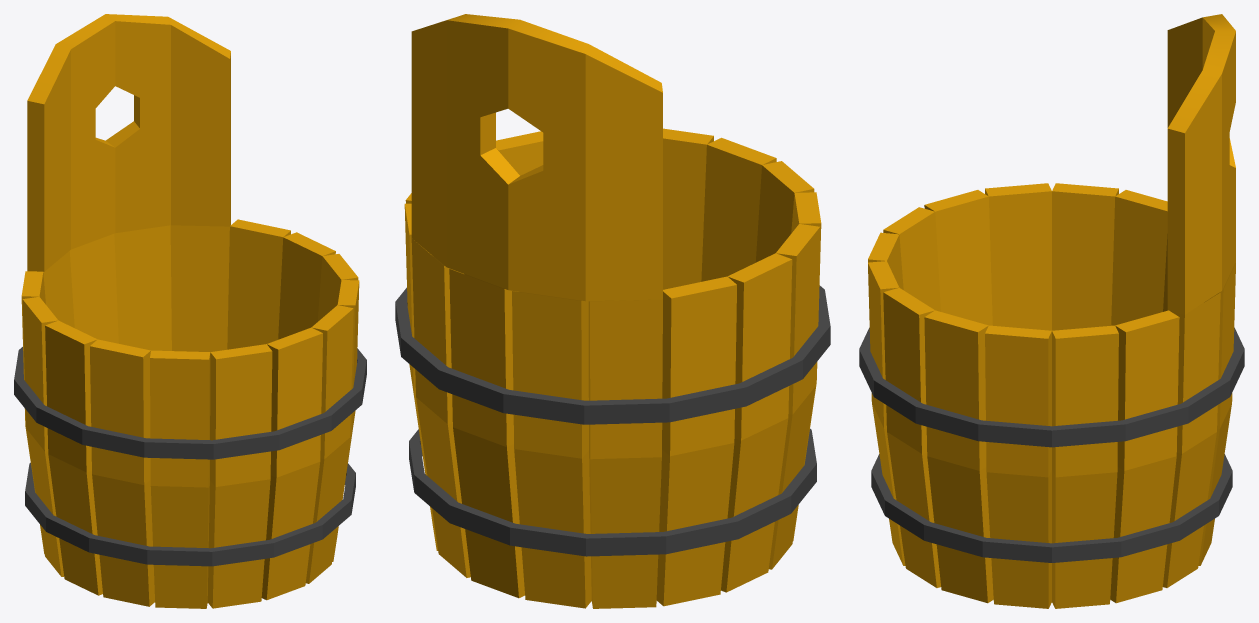
Rendered from bucket_1.FBX.
The picture shows the model from 3 angles, left to right: view 1: azimuth 30°, elevation 25°; view 2: azimuth 150°, elevation 25°; view 3: azimuth 270°, elevation 25°; orthographic projection. The views are drawn at different scales.
Parts seen in each view (by area): view 1: bucket_1; view 2: bucket_1; view 3: bucket_1.
Boxes of the visible parts, left/top/right/bottom form: bucket_1: left=14, top=14, right=366, bottom=608; bucket_1: left=395, top=14, right=830, bottom=608; bucket_1: left=859, top=14, right=1244, bottom=608.
Bounding box in the file's own units: 0.488 × 0.7143 × 0.488.
Materials: 1 (1 with a texture image).
